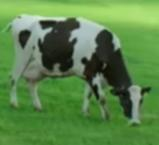cow: (10, 15, 151, 127)
